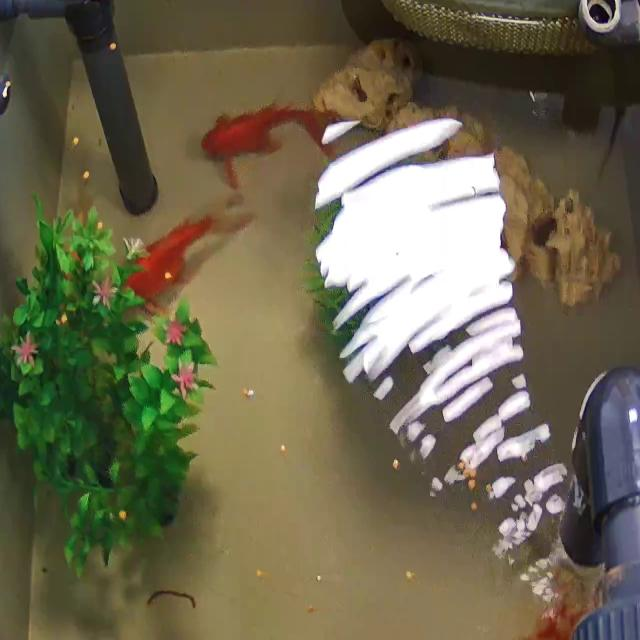fish: (120, 207, 235, 307), (200, 102, 325, 180)
